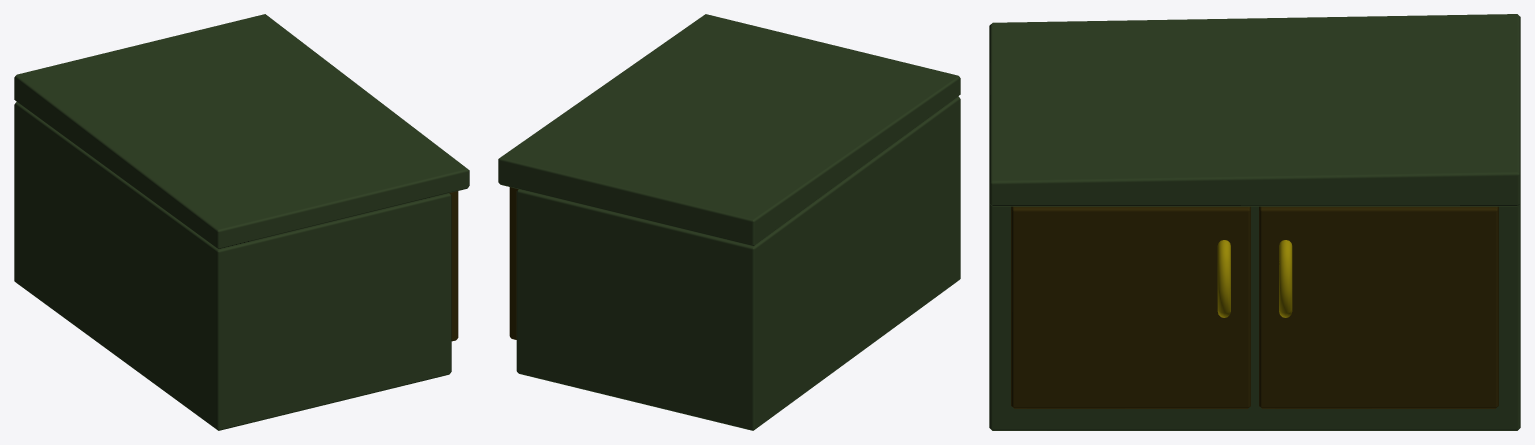
Rendered from blat_zwykly2.fbx.
3 renders of one model, left to right at view 1: azimuth 30°, elevation 25°; view 2: azimuth 150°, elevation 25°; view 3: azimuth 270°, elevation 25°, orthographic. The views are drawn at different scales.
Parts seen in each view (by area): view 1: Plane; view 2: Plane; view 3: Plane, Circle.
Part boxes in pixels (left/top/right/bottom): Plane: left=14, top=14, right=469, bottom=430; Plane: left=498, top=14, right=960, bottom=430; Plane: left=989, top=14, right=1520, bottom=430; Circle: left=1217, top=240, right=1292, bottom=317.
Bounding box in the file's own units: 122 × 89.98 × 160.
